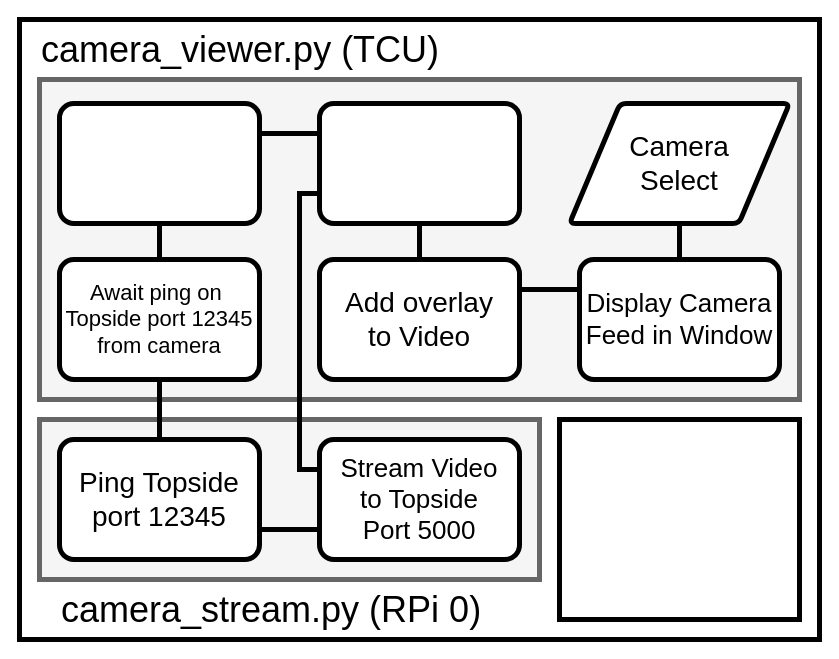
The diagram is 839 pixels wide and 659 high, and some of its shapes have lost their labels. Each missing label, with the centre of its shape:
Add camera IP to known cameras: [159,163]
Begin streaming video from Topside port 5000: [419,163]
Camera Feed Diagram: [679,519]
